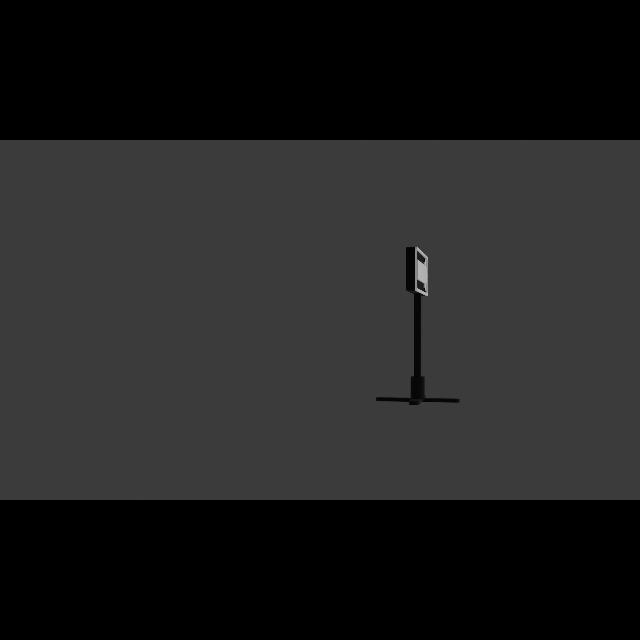sign_oneway_right: (405, 245, 431, 299)
